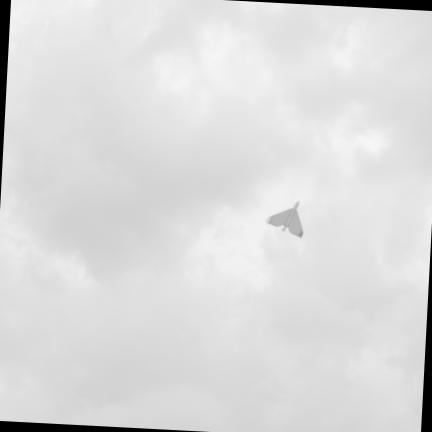Shahed: (267, 202, 303, 237)
